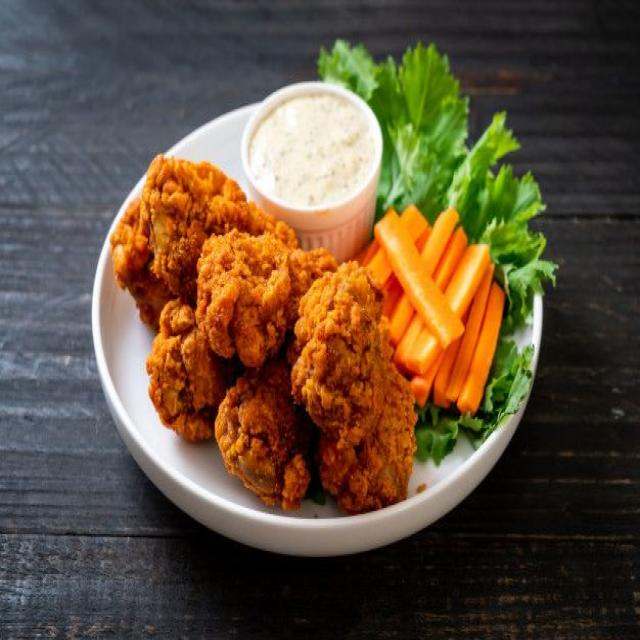Frango: (108, 143, 417, 514)
